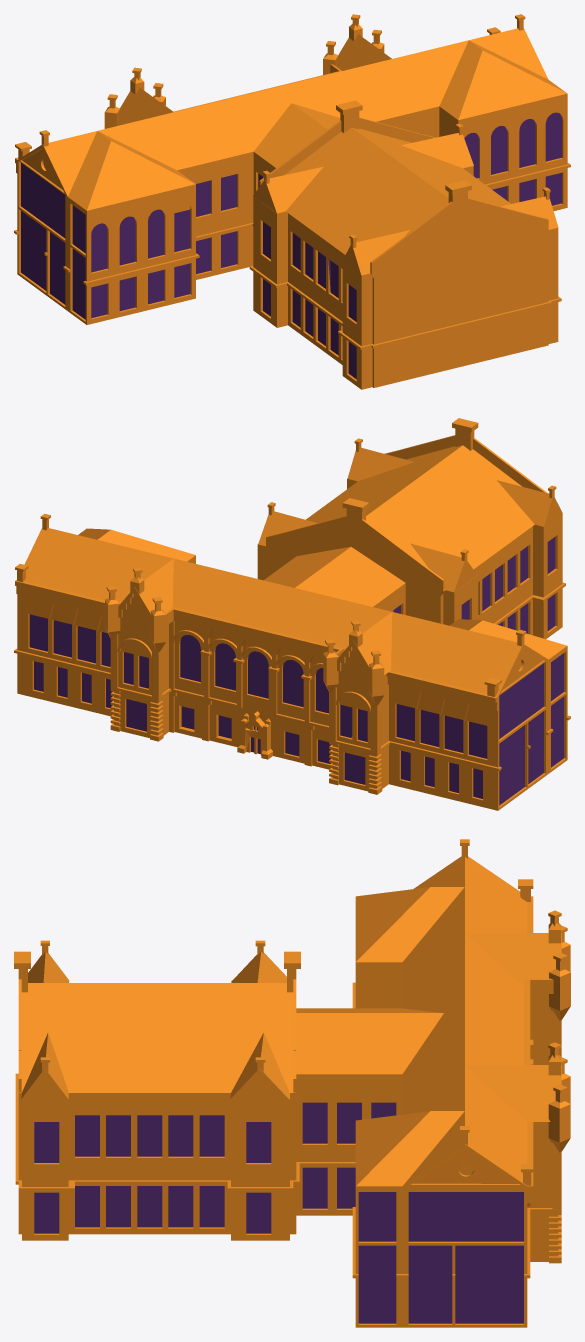
File: Samochodówka_cz2.obj
The picture shows the model from 3 angles, top to bottom: view 1: azimuth 30°, elevation 25°; view 2: azimuth 150°, elevation 25°; view 3: azimuth 270°, elevation 25°; orthographic projection. The views are drawn at different scales.
Parts seen in each view (by area): view 1: samochodowka_cz2; view 2: samochodowka_cz2; view 3: samochodowka_cz2.
Part boxes in pixels (box(x1,y1,x2,y2)): samochodowka_cz2: box(14, 14, 570, 389); samochodowka_cz2: box(14, 418, 570, 810); samochodowka_cz2: box(14, 839, 570, 1327).
Size of the model in its own units: 39.88 by 14.19 by 32.07.
